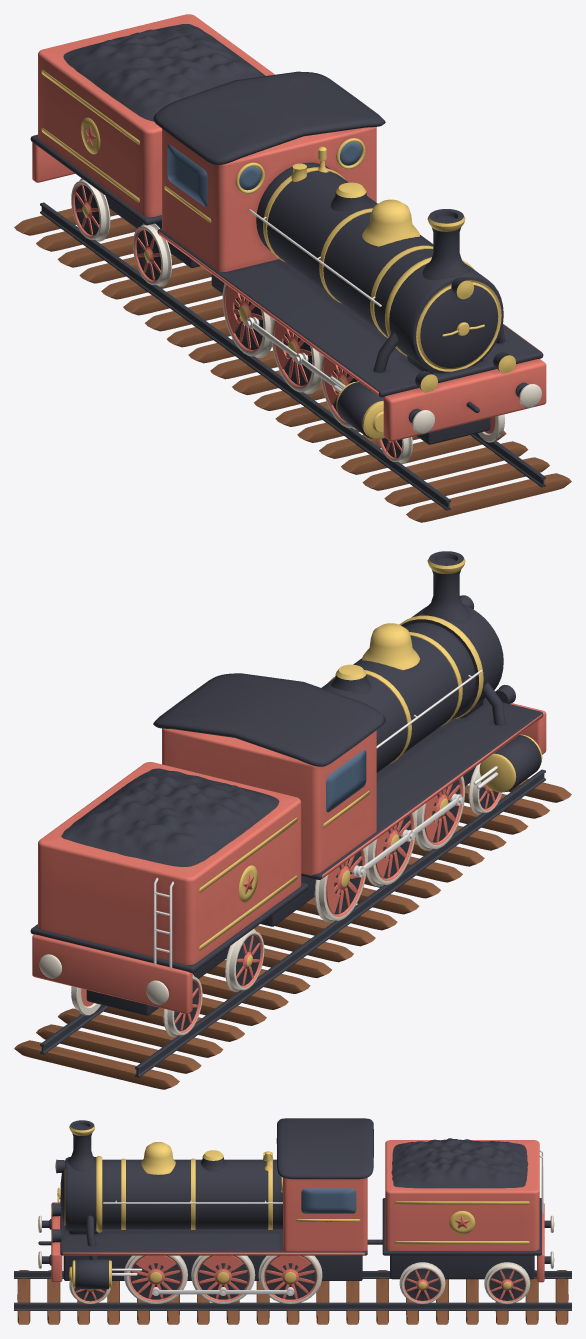
Rendered from steam-train.glb.
3 views of the same model, one above another, from view 1: azimuth 30°, elevation 25°; view 2: azimuth 150°, elevation 25°; view 3: azimuth 270°, elevation 25° (orthographic). The views are drawn at different scales.
Visible parts, largest first — view 1: steam-train_body, steam-train_track, steam-train_windows, steam-train_wheel_drive3_r, steam-train_wheel_drive2_r, steam-train_wheel_tender1_r, steam-train_wheel_tender2_r, steam-train_wheel_drive1_r, steam-train_coupling_rod_r, steam-train_wheel_lead_r; view 2: steam-train_body, steam-train_track, steam-train_wheel_drive3_r, steam-train_wheel_drive1_r, steam-train_wheel_drive2_r, steam-train_wheel_tender1_r, steam-train_windows, steam-train_wheel_tender2_r, steam-train_wheel_lead_r, steam-train_coupling_rod_r; view 3: steam-train_body, steam-train_track, steam-train_wheel_drive3_l, steam-train_wheel_drive1_l, steam-train_wheel_drive2_l, steam-train_wheel_tender2_l, steam-train_wheel_tender1_l, steam-train_windows, steam-train_coupling_rod_l, steam-train_wheel_lead_l.
Part boxes in pixels (<box>): steam-train_body: <box>30,14,546,444</box>; steam-train_track: <box>14,202,571,522</box>; steam-train_windows: <box>167,141,361,206</box>; steam-train_wheel_drive3_r: <box>222,283,273,358</box>; steam-train_wheel_drive2_r: <box>271,319,322,393</box>; steam-train_wheel_tender1_r: <box>133,223,172,286</box>; steam-train_wheel_tender2_r: <box>71,178,110,241</box>; steam-train_wheel_drive1_r: <box>320,355,358,429</box>; steam-train_coupling_rod_r: <box>247,317,342,389</box>; steam-train_wheel_lead_r: <box>378,437,412,463</box>; steam-train_body: <box>30,551,546,1015</box>; steam-train_track: <box>14,769,571,1089</box>; steam-train_wheel_drive3_r: <box>314,848,366,922</box>; steam-train_wheel_drive1_r: <box>414,776,464,850</box>; steam-train_wheel_drive2_r: <box>365,812,415,886</box>; steam-train_wheel_tender1_r: <box>225,929,264,991</box>; steam-train_windows: <box>326,749,366,812</box>; steam-train_wheel_tender2_r: <box>163,974,202,1037</box>; steam-train_wheel_lead_r: <box>468,763,502,814</box>; steam-train_coupling_rod_r: <box>356,794,462,877</box>; steam-train_body: <box>38,1118,554,1289</box>; steam-train_track: <box>14,1270,571,1324</box>; steam-train_wheel_drive3_l: <box>258,1255,322,1304</box>; steam-train_wheel_drive1_l: <box>124,1255,187,1304</box>; steam-train_wheel_drive2_l: <box>191,1255,255,1304</box>; steam-train_wheel_tender2_l: <box>484,1262,530,1304</box>; steam-train_wheel_tender1_l: <box>399,1262,445,1304</box>; steam-train_windows: <box>301,1188,356,1213</box>; steam-train_coupling_rod_l: <box>152,1288,294,1295</box>; steam-train_wheel_lead_l: <box>69,1281,110,1304</box>.
Bounding box in the file's own units: 2.88 × 3.89 × 11.2.
59 materials, 1 textured.
